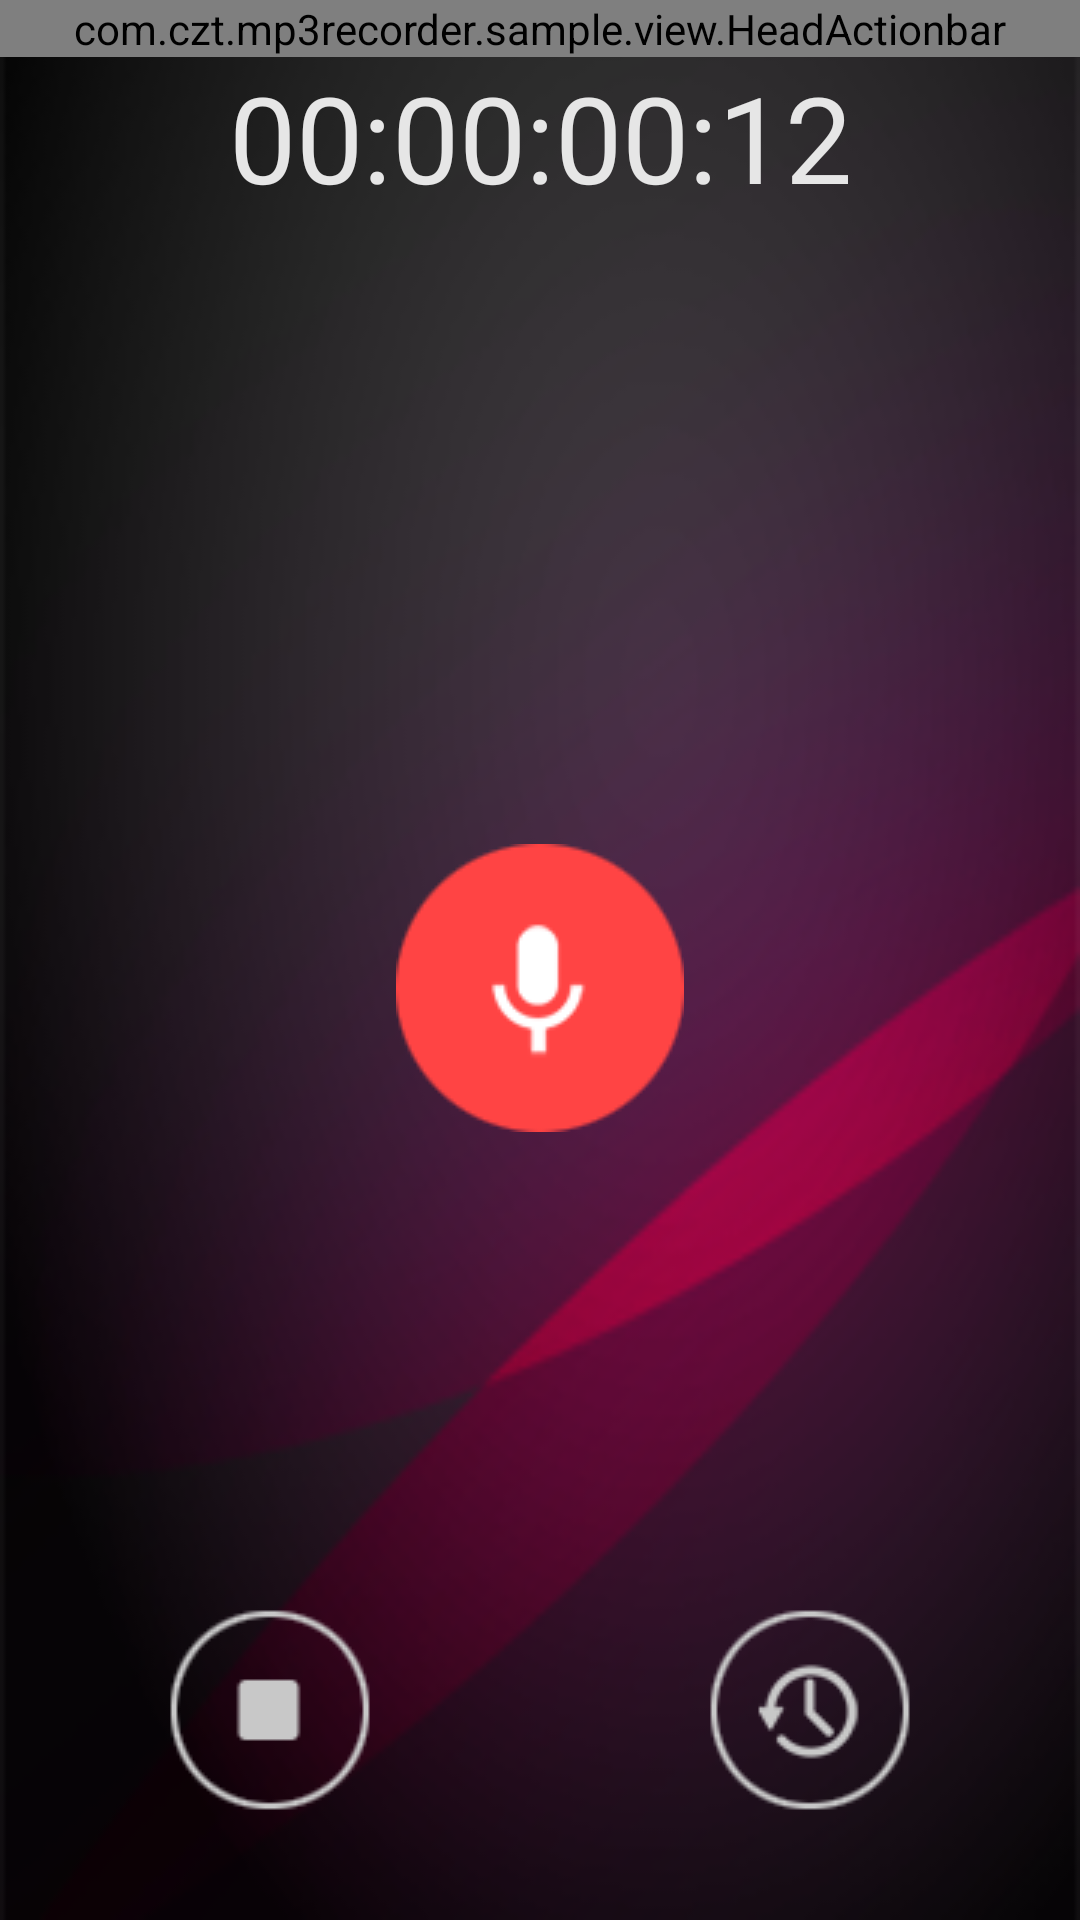

Locate icon controls on the screen. Image size 1080x1920, boxes as (x1, y1, x2, y2).
record list: (710, 1610, 910, 1810)
record nomal: (396, 844, 684, 1132)
